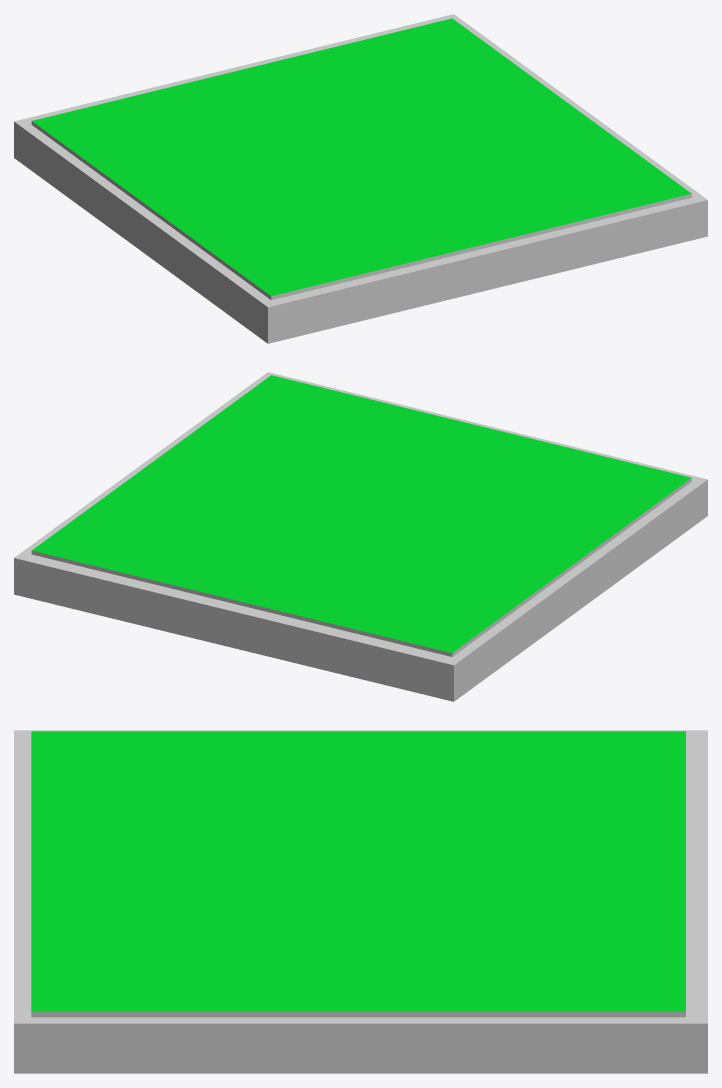
Rendered from RoofTileLight.fbx.
3 views of the same model, one above another, from view 1: azimuth 30°, elevation 25°; view 2: azimuth 150°, elevation 25°; view 3: azimuth 270°, elevation 25° (orthographic). The views are drawn at different scales.
Parts seen in each view (by area): view 1: Cube.038; view 2: Cube.038; view 3: Cube.038.
Part boxes in pixels (x1,y1,x2,y2): Cube.038: (14,14,707,343); Cube.038: (14,372,707,701); Cube.038: (14,730,707,1073).
Bounding box in the file's own units: 200 × 17.6 × 200.
